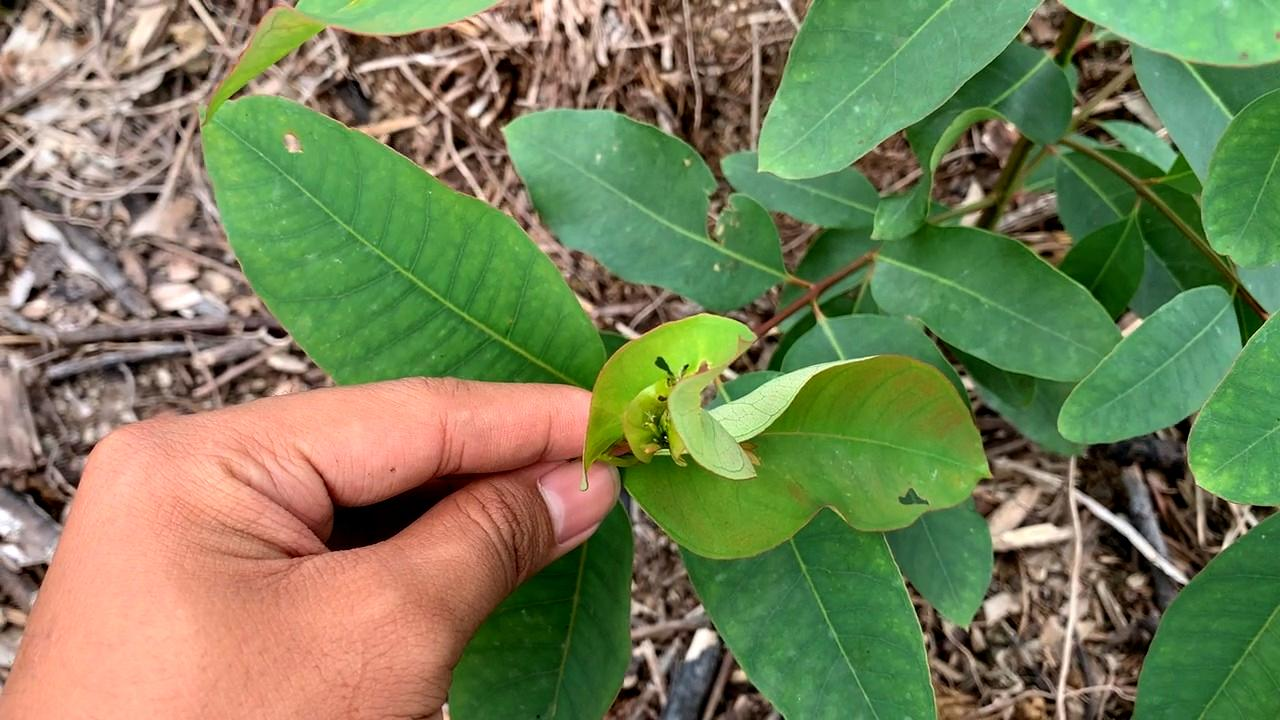Leaf Roller - Leaf: (577, 309, 765, 489)
